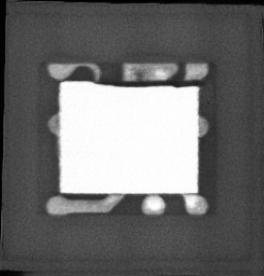DIE_BROKEN: (94, 78, 202, 88)
